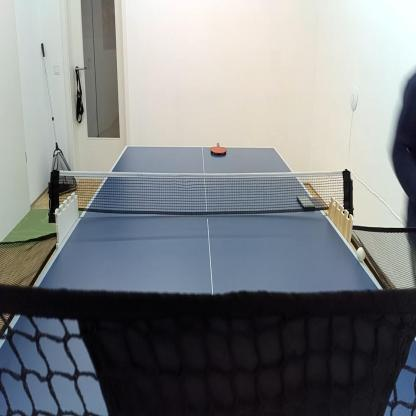Ball: (358, 248, 366, 262)
